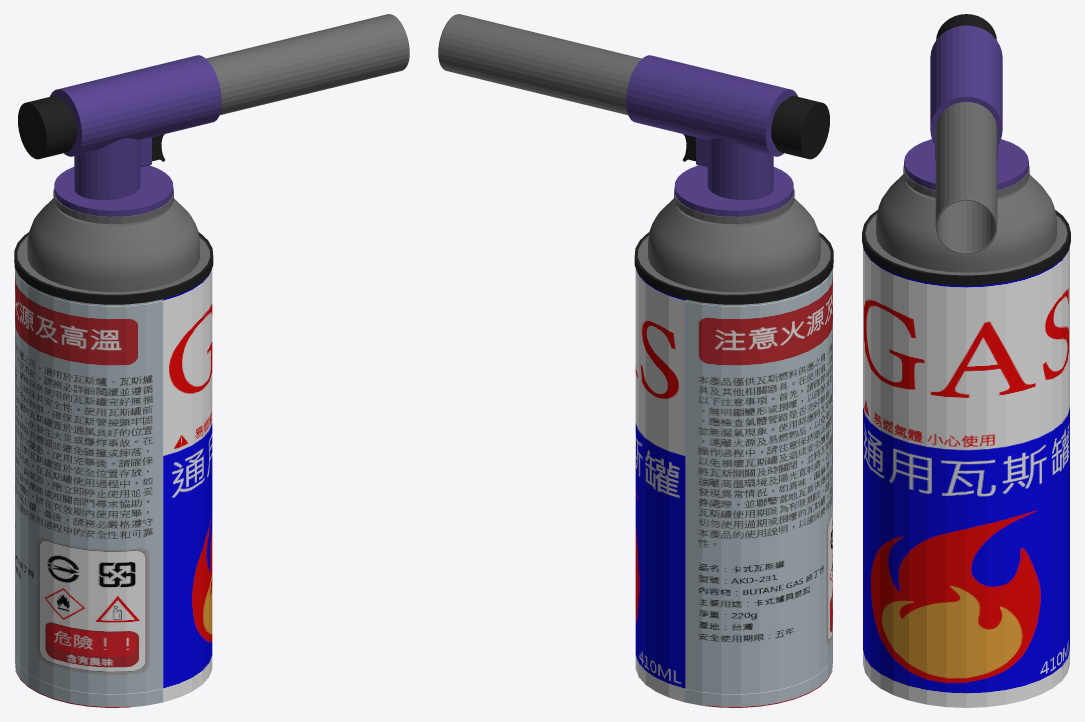
Rendered from GAS.fbx.
3 views of the same model, side by side, from view 1: azimuth 30°, elevation 25°; view 2: azimuth 150°, elevation 25°; view 3: azimuth 270°, elevation 25° (orthographic). The views are drawn at different scales.
Parts seen in each view (by area): view 1: 瓦斯冠, 圓柱體.001, 圓柱體, 圓柱體.002; view 2: 瓦斯冠, 圓柱體.001, 圓柱體, 圓柱體.002; view 3: 瓦斯冠, 圓柱體.001, 圓柱體, 圓柱體.002.
Boxes of the visible parts, bbox=[...] form: 瓦斯冠: bbox=[14, 188, 213, 707]; 圓柱體.001: bbox=[50, 14, 409, 156]; 圓柱體: bbox=[54, 137, 173, 216]; 圓柱體.002: bbox=[18, 96, 76, 159]; 瓦斯冠: bbox=[634, 188, 833, 707]; 圓柱體.001: bbox=[438, 14, 797, 156]; 圓柱體: bbox=[674, 137, 793, 216]; 圓柱體.002: bbox=[771, 96, 829, 159]; 瓦斯冠: bbox=[862, 165, 1070, 707]; 圓柱體.001: bbox=[930, 25, 1002, 254]; 圓柱體: bbox=[904, 139, 1028, 190]; 圓柱體.002: bbox=[936, 14, 996, 39].
Size of the model in its own units: 430 by 655 by 202.
